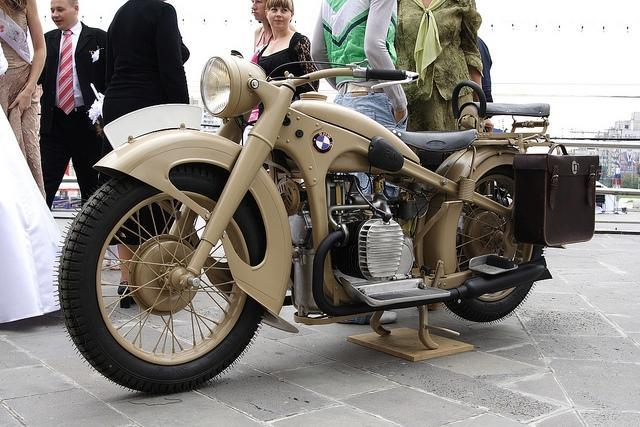motorcycle: (58, 55, 600, 396)
